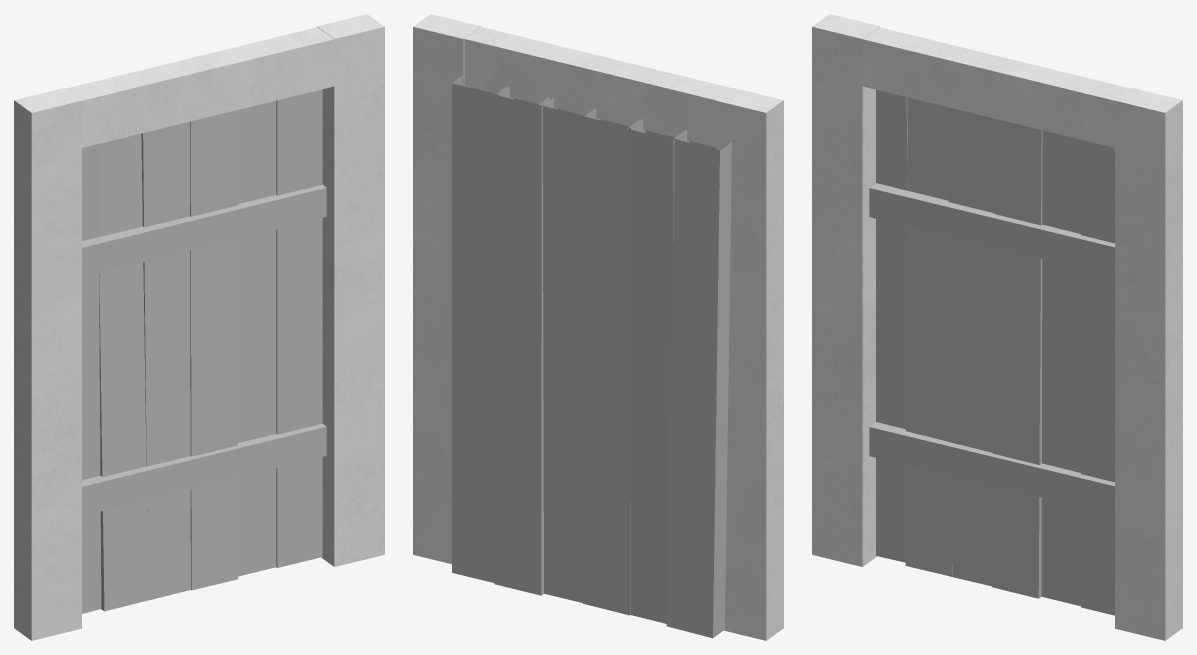
The model's file is PeaceDoor.fbx.
3 renders of one model, left to right at view 1: azimuth 30°, elevation 25°; view 2: azimuth 150°, elevation 25°; view 3: azimuth 330°, elevation 25°, orthographic.
Parts seen in each view (by area): view 1: Door; view 2: Door; view 3: Door.
Part boxes in pixels (x1,y1,x2,y2): Door: (14, 14, 384, 640); Door: (413, 14, 783, 640); Door: (812, 14, 1182, 640).
Bounding box in the file's own units: 1.4 × 2 × 0.2092.
